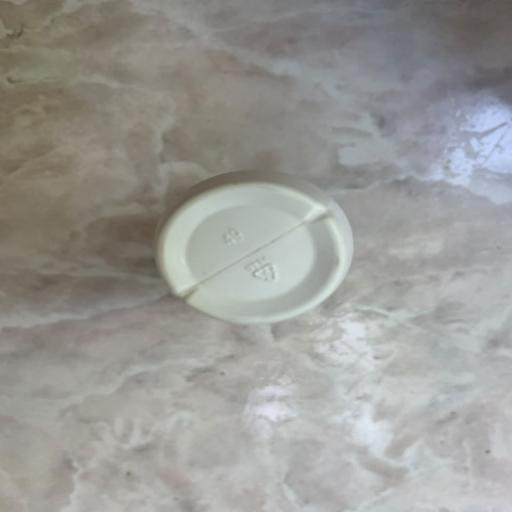HDPE: (139, 146, 363, 371)
